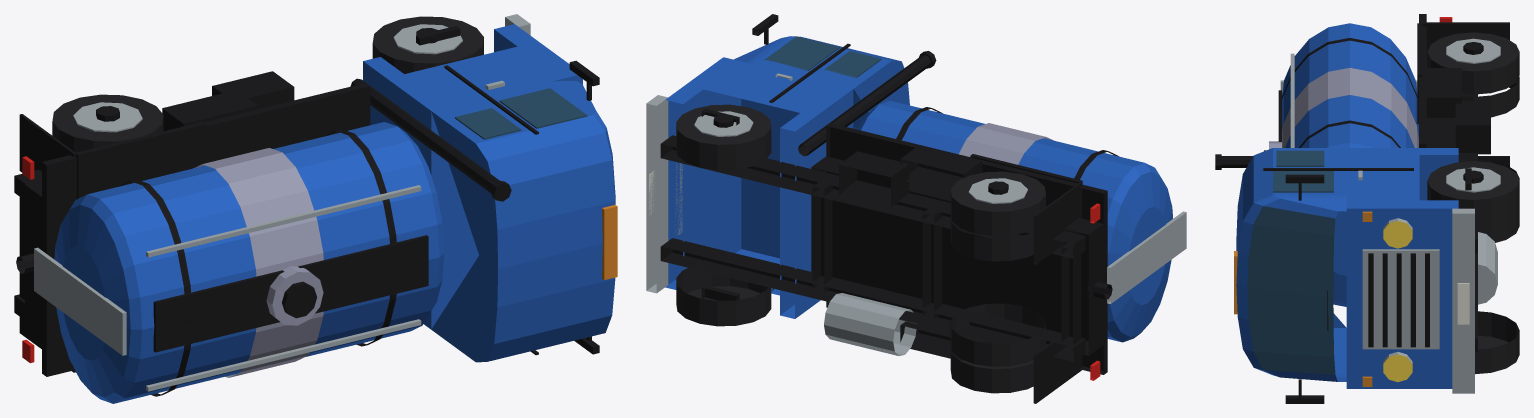
3 views of the same model, side by side, from view 1: azimuth 30°, elevation 25°; view 2: azimuth 150°, elevation 25°; view 3: azimuth 270°, elevation 25° (orthographic). The views are drawn at different scales.
Parts seen in each view (by area): view 1: default_tank, default_cab_upper, default_walkway, default_deck, default_band, default_cab_arch, default_rear_guard1, default_cab_back, default_rear_out1, default_front1, default_ladder, default_exhaust (+15 smaller); view 2: default_subframe, default_tank, default_cab_arch, default_chassis-1, default_cab_front, default_cab_back, default_chassis1, default_front1, default_rear_out1, default_deck, default_bumper, default_fuel_tank (+19 smaller); view 3: default_cab_upper, default_tank, default_cab_front, default_grille, default_rear_out1, default_front1, default_bumper, default_band, default_cab_arch, default_front-1, default_battery_box, default_hose_box1 (+27 smaller).
Part boxes in pixels (x1,y1,x2,y2): default_tank: (54,122,444,403); default_cab_upper: (431,81,615,362); default_walkway: (153,235,428,352); default_deck: (42,83,370,376); default_band: (193,148,323,377); default_cab_arch: (404,46,561,301); default_rear_guard1: (76,122,206,198); default_cab_back: (363,57,448,329); default_rear_out1: (52,94,163,152); default_front1: (372,16,483,73); default_ladder: (34,247,126,355); default_exhaust: (350,78,499,192); default_subframe: (811,156,1103,355); default_tank: (857,100,1172,342); default_cab_arch: (703,61,837,295); default_chassis-1: (660,238,1085,361); default_cab_front: (665,57,741,289); default_cab_back: (780,85,853,318); default_chassis1: (660,135,1085,258); default_front1: (676,104,771,170); default_rear_out1: (950,171,1045,235); default_deck: (826,123,1107,374); default_bumper: (646,95,668,293); default_fuel_tank: (824,293,916,356); default_cab_upper: (1236,148,1346,381); default_tank: (1282,23,1418,306); default_cab_front: (1346,200,1458,388); default_grille: (1362,249,1439,349); default_rear_out1: (1427,32,1519,94); default_front1: (1427,161,1519,224); default_bumper: (1452,208,1474,393); default_band: (1282,68,1418,147); default_cab_arch: (1346,155,1419,200); default_front-1: (1475,311,1519,374); default_battery_box: (1455,101,1490,154); default_hose_box1: (1426,68,1461,117).
Size of the model in its own units: 7.7 by 3.9 by 4.75.
